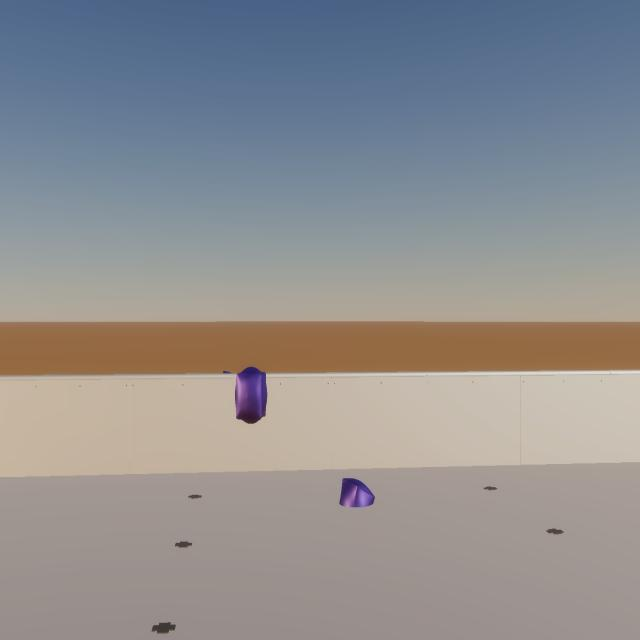frc_cube: (235, 367, 267, 424), (339, 478, 375, 507)
